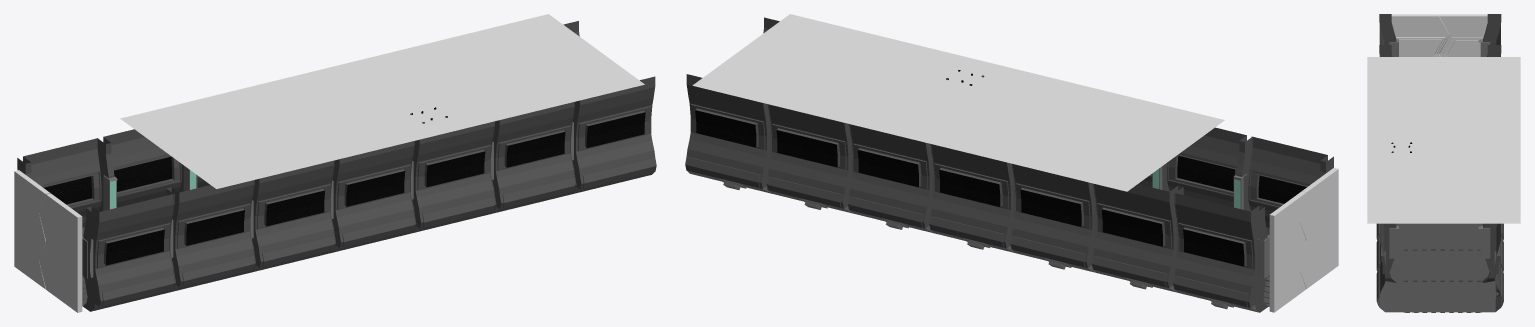
Rendered from hallway.fbx.
3 views of the same model, side by side, from view 1: azimuth 30°, elevation 25°; view 2: azimuth 150°, elevation 25°; view 3: azimuth 270°, elevation 25° (orthographic). The views are drawn at different scales.
Parts seen in each view (by area): view 1: Plane, Plane.001, Cube.001, Cube; view 2: Plane, Plane.001, Cube.001, Cube; view 3: Plane.001, Plane, Cube.001, Cube.
Boxes of the visible parts, bbox=[...] form: Plane: bbox=[17, 21, 656, 311]; Plane.001: bbox=[120, 14, 644, 188]; Cube.001: bbox=[39, 193, 82, 312]; Cube: bbox=[14, 170, 50, 289]; Plane: bbox=[685, 17, 1333, 312]; Plane.001: bbox=[692, 14, 1224, 191]; Cube.001: bbox=[1299, 167, 1338, 288]; Cube: bbox=[1269, 191, 1306, 312]; Plane.001: bbox=[1367, 57, 1520, 223]; Plane: bbox=[1376, 14, 1503, 312]; Cube.001: bbox=[1391, 14, 1449, 56]; Cube: bbox=[1439, 14, 1487, 56].
Size of the model in its own units: 7035 by 1254 by 2055.
